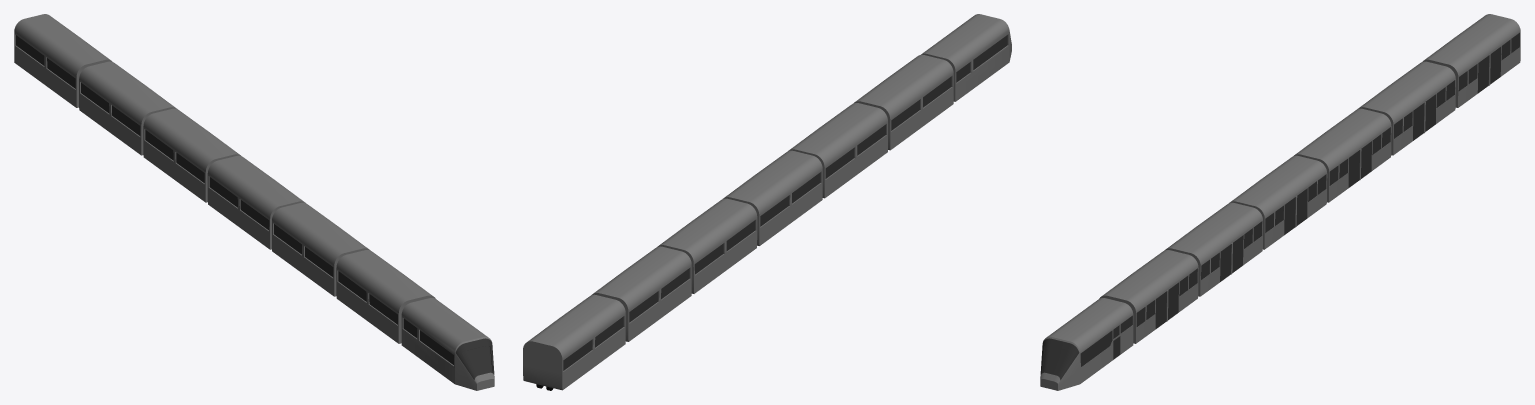
The model's file is train.fbx.
3 views of the same model, side by side, from view 1: azimuth 30°, elevation 25°; view 2: azimuth 150°, elevation 25°; view 3: azimuth 330°, elevation 25° (orthographic).
Parts seen in each view (by area): view 1: Cube; view 2: Cube; view 3: Cube.
Boxes of the visible parts, x1,y1,x2,y2 form: Cube: (14, 14, 494, 390); Cube: (523, 14, 1011, 390); Cube: (1040, 14, 1520, 390).
Size of the model in its own units: 204 by 236 by 4055.
Materials: 1 (1 with a texture image).
